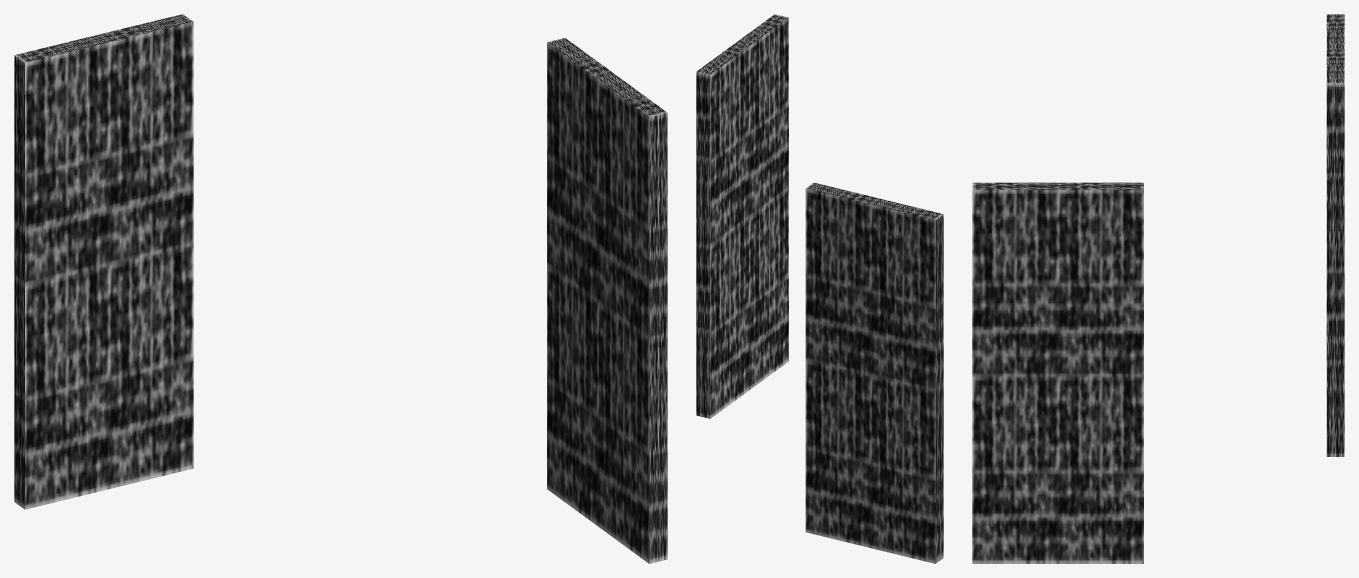
Rendered from Aera1.fbx.
3 views of the same model, side by side, from view 1: azimuth 30°, elevation 25°; view 2: azimuth 150°, elevation 25°; view 3: azimuth 270°, elevation 25° (orthographic). The views are drawn at different scales.
Parts seen in each view (by area): view 1: Cube__1_, Cube; view 2: Cube__1_, Cube; view 3: Cube, Cube__1_.
Part boxes in pixels (x1=…): Cube__1_: x1=14, y1=14, x2=193, y2=509; Cube: x1=547, y1=38, x2=667, y2=563; Cube__1_: x1=805, y1=182, x2=943, y2=563; Cube: x1=696, y1=14, x2=788, y2=418; Cube: x1=972, y1=182, x2=1143, y2=563; Cube__1_: x1=1326, y1=14, x2=1344, y2=456.
Bounding box in the file's own units: 2354 × 2332 × 2102.
